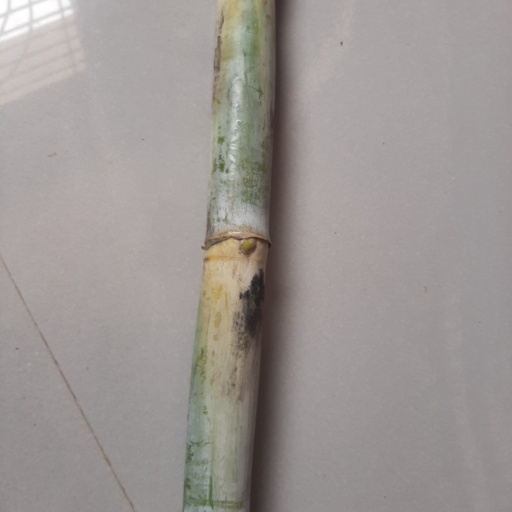Bud: (240, 236, 258, 256)
